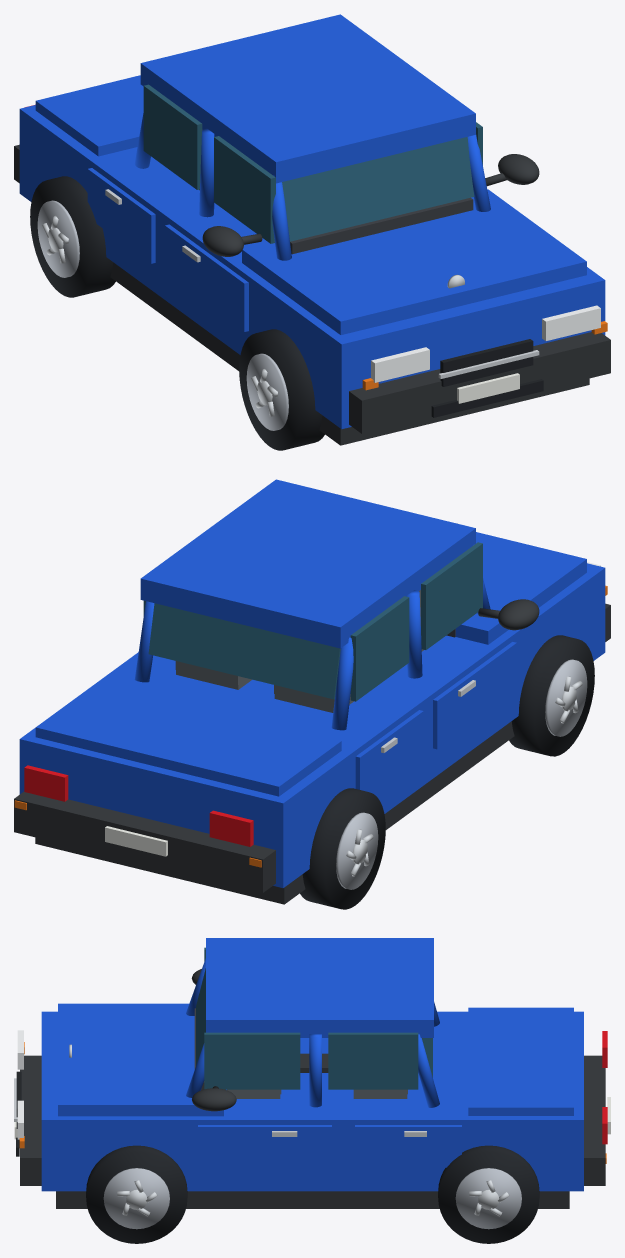
File: auto2.glb
The picture shows the model from 3 angles, top to bottom: view 1: azimuth 30°, elevation 25°; view 2: azimuth 150°, elevation 25°; view 3: azimuth 270°, elevation 25°; orthographic projection. The views are drawn at different scales.
Parts seen in each view (by area): view 1: Techo azul, Carroceria principal azul, Capo delantero azul, Parabrisas delantero, Defensa delantera, Cajuela trasera azul, Neumatico delantera Izquierda, Neumatico trasera Izquierda, Chasis inferior, Puerta delantera Izquierda, Ventana delantera Izquierda, Ventana trasera Izquierda (+15 smaller); view 2: Carroceria principal azul, Techo azul, Cajuela trasera azul, Defensa trasera, Cristal trasero, Capo delantero azul, Neumatico trasera Izquierda, Neumatico delantera Izquierda, Chasis inferior, Ventana delantera Izquierda, Puerta delantera Izquierda, Ventana trasera Izquierda (+12 smaller); view 3: Carroceria principal azul, Techo azul, Capo delantero azul, Cajuela trasera azul, Chasis inferior, Puerta delantera Derecha, Ventana delantera Derecha, Ventana trasera Derecha, Neumatico delantera Derecha, Neumatico trasera Derecha, Puerta trasera Derecha, Defensa trasera (+10 smaller).
Part boxes in pixels (x1,y1,x2,y2): Techo azul: (140, 14, 475, 183); Carroceria principal azul: (19, 105, 605, 429); Capo delantero azul: (242, 189, 586, 334); Parabrisas delantero: (282, 137, 474, 241); Defensa delantera: (349, 332, 610, 433); Cajuela trasera azul: (35, 75, 143, 156); Neumatico delantera Izquierda: (239, 329, 324, 450); Neumatico trasera Izquierda: (30, 176, 115, 297); Chasis inferior: (110, 262, 589, 445); Puerta delantera Izquierda: (165, 224, 248, 331); Ventana delantera Izquierda: (214, 136, 275, 243); Ventana trasera Izquierda: (143, 84, 202, 189); Carroceria principal azul: (19, 563, 605, 887); Techo azul: (140, 479, 475, 648); Cajuela trasera azul: (35, 681, 341, 796); Defensa trasera: (14, 791, 275, 892); Cristal trasero: (148, 603, 340, 699); Capo delantero azul: (455, 532, 586, 644); Neumatico trasera Izquierda: (300, 788, 385, 909); Neumatico delantera Izquierda: (509, 635, 594, 756); Chasis inferior: (35, 721, 514, 904); Ventana delantera Izquierda: (421, 542, 482, 649); Puerta delantera Izquierda: (433, 642, 516, 749); Ventana trasera Izquierda: (350, 596, 409, 701); Carroceria principal azul: (41, 1011, 583, 1191); Techo azul: (206, 938, 433, 1037); Capo delantero azul: (58, 1003, 223, 1116); Cajuela trasera azul: (468, 1007, 573, 1115); Chasis inferior: (56, 1191, 569, 1208); Puerta delantera Derecha: (198, 1125, 331, 1167); Ventana delantera Derecha: (204, 1032, 300, 1089); Ventana trasera Derecha: (328, 1032, 418, 1089); Neumatico delantera Derecha: (86, 1145, 187, 1243); Neumatico trasera Derecha: (438, 1145, 539, 1243); Puerta trasera Derecha: (355, 1125, 461, 1167); Defensa trasera: (584, 1055, 605, 1185).
Size of the model in its own units: 2.26 by 1.6 by 4.24.
